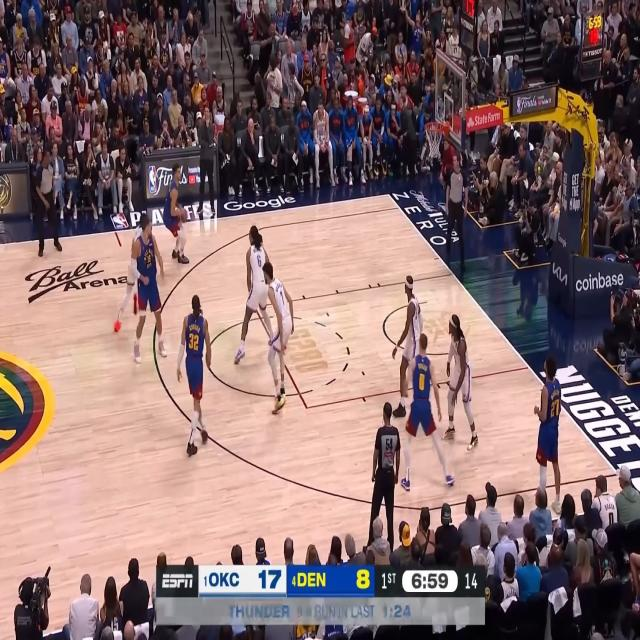ball: (178, 207, 188, 223)
number: (188, 332, 199, 351), (418, 369, 426, 392), (551, 398, 560, 418), (279, 287, 285, 306), (256, 253, 262, 266), (147, 253, 152, 263)
player: (176, 293, 212, 457), (129, 218, 168, 365), (440, 312, 480, 454), (234, 224, 273, 365), (532, 357, 564, 518), (262, 262, 294, 416), (113, 212, 151, 334), (393, 274, 424, 420)
player-dribble: (162, 162, 190, 264)
referee: (369, 402, 402, 552), (34, 150, 64, 257), (445, 150, 469, 272)
rim: (423, 120, 445, 132)
